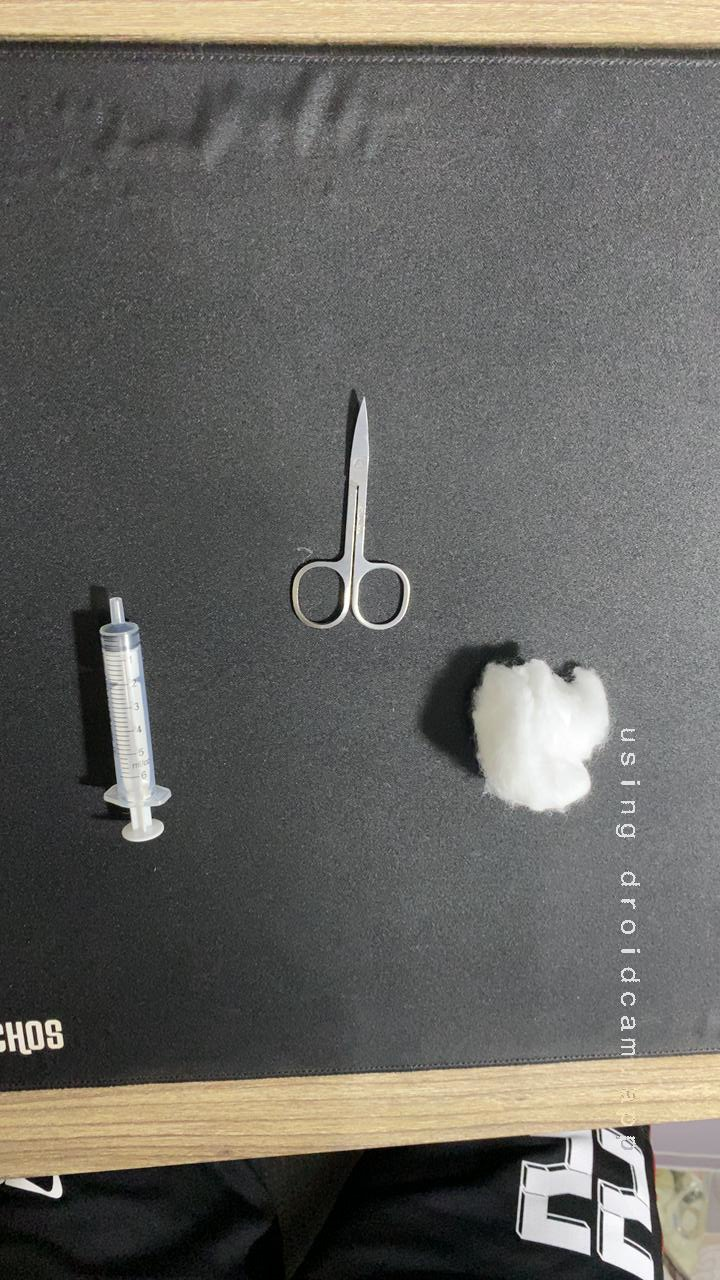cotton: (441, 626, 644, 838)
scissor: (269, 383, 430, 640)
syringe: (60, 580, 194, 861)
